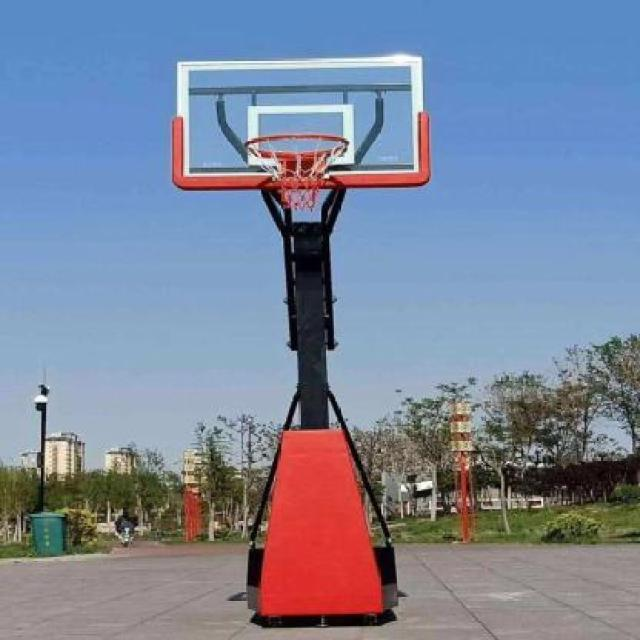rim: (246, 132, 350, 212)
